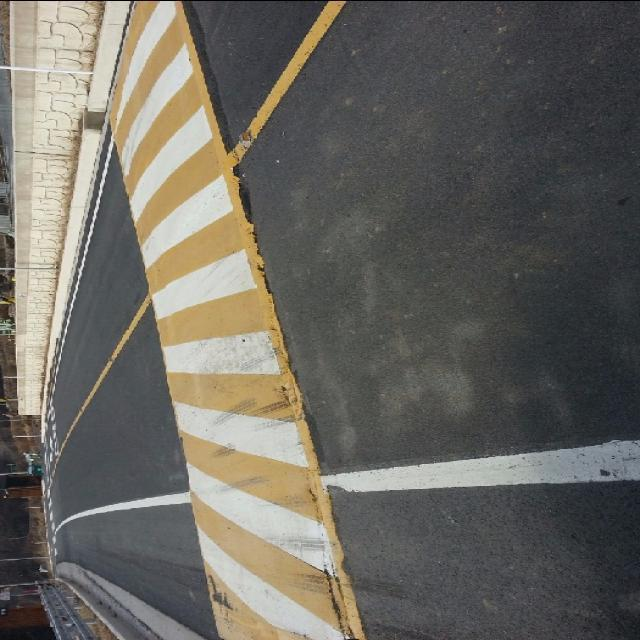speedbreaker: (94, 0, 392, 640)
